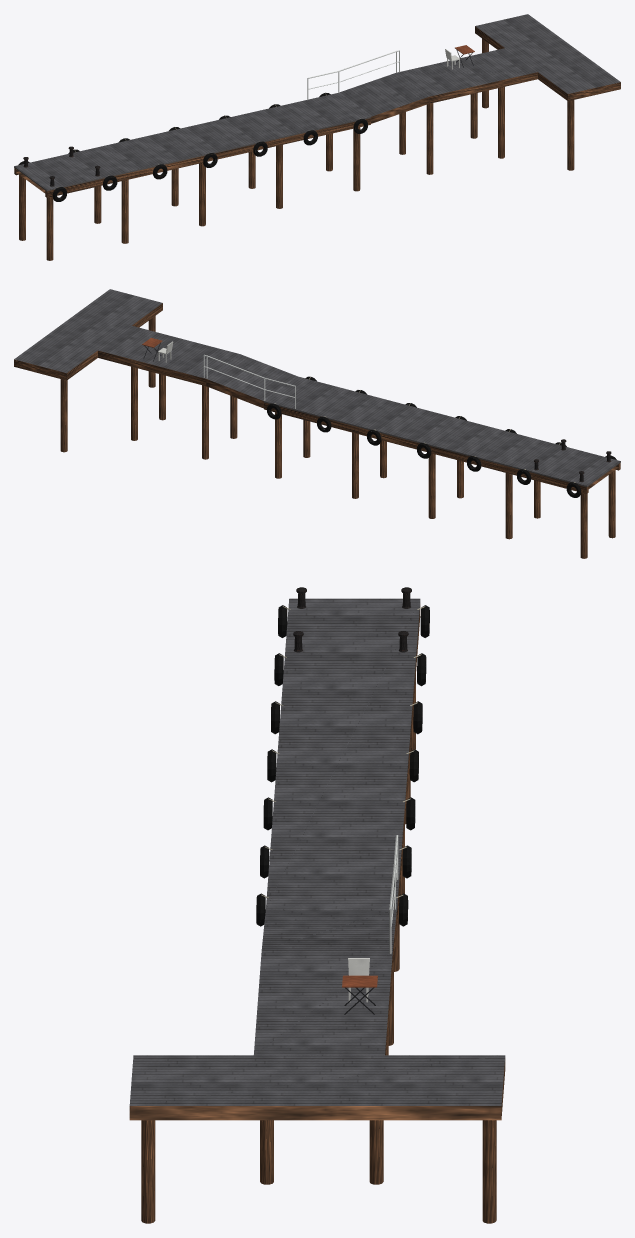
The model's file is SM_Morin_PontileImbarco_v2.fbx.
3 views of the same model, one above another, from view 1: azimuth 30°, elevation 25°; view 2: azimuth 150°, elevation 25°; view 3: azimuth 270°, elevation 25° (orthographic). The views are drawn at different scales.
Visible parts, largest first — view 1: SM_Morin_PontileImbarco_v2; view 2: SM_Morin_PontileImbarco_v2; view 3: SM_Morin_PontileImbarco_v2.
Boxes of the visible parts, left/top/right/bottom form: SM_Morin_PontileImbarco_v2: left=14, top=14, right=620, bottom=260; SM_Morin_PontileImbarco_v2: left=14, top=289, right=620, bottom=558; SM_Morin_PontileImbarco_v2: left=129, top=587, right=505, bottom=1223.
Size of what is drawn, in the model's own units: 2821 by 859 by 514.
Materials: 2 (2 with a texture image).
